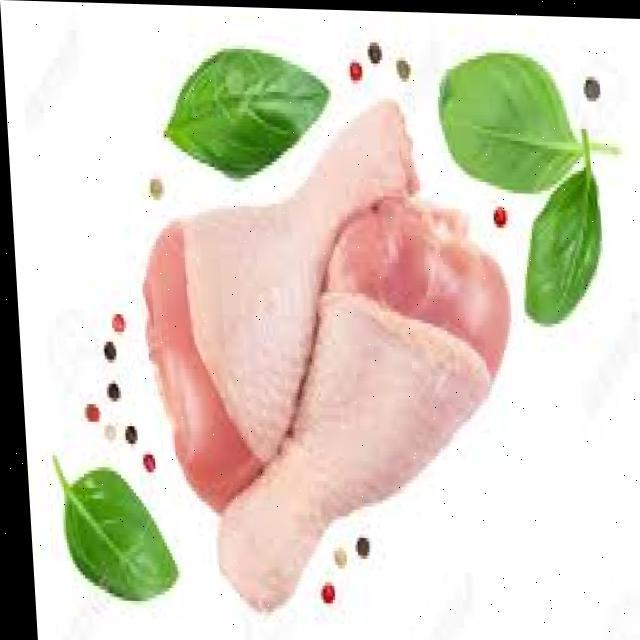leg: (100, 96, 438, 494), (193, 192, 514, 606)
